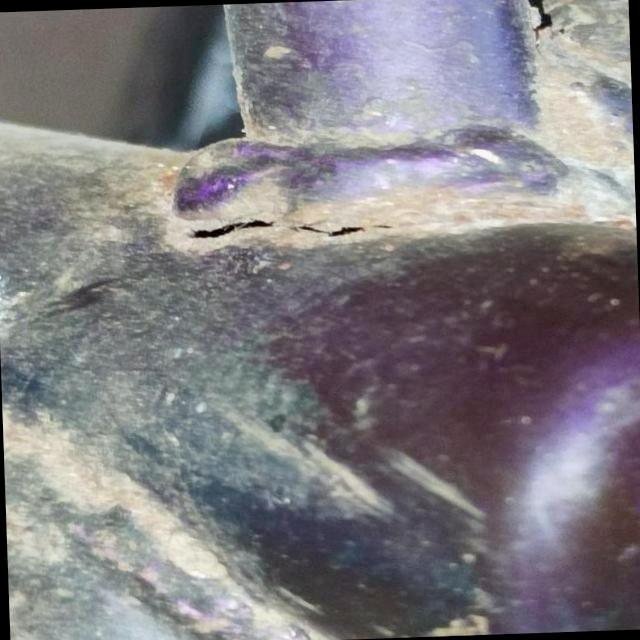defect: (178, 212, 398, 240)
